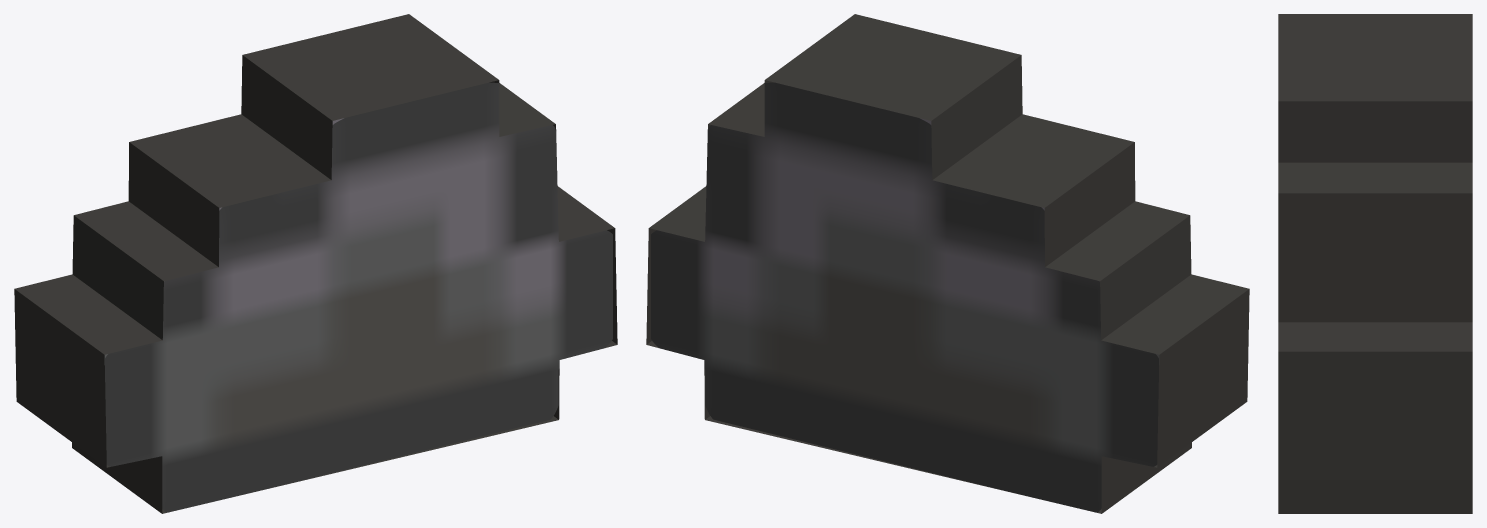
Rendered from Rock_04.fbx.
3 renders of one model, left to right at view 1: azimuth 30°, elevation 25°; view 2: azimuth 150°, elevation 25°; view 3: azimuth 270°, elevation 25°, orthographic. The views are drawn at different scales.
Parts seen in each view (by area): view 1: objec-3 3000px1.002; view 2: objec-3 3000px1.002; view 3: objec-3 3000px1.002.
Boxes of the visible parts, bbox=[...] form: objec-3 3000px1.002: bbox=[14, 14, 617, 513]; objec-3 3000px1.002: bbox=[646, 14, 1249, 513]; objec-3 3000px1.002: bbox=[1278, 14, 1472, 513].
Bounding box in the file's own units: 16.41 × 10.84 × 5.
